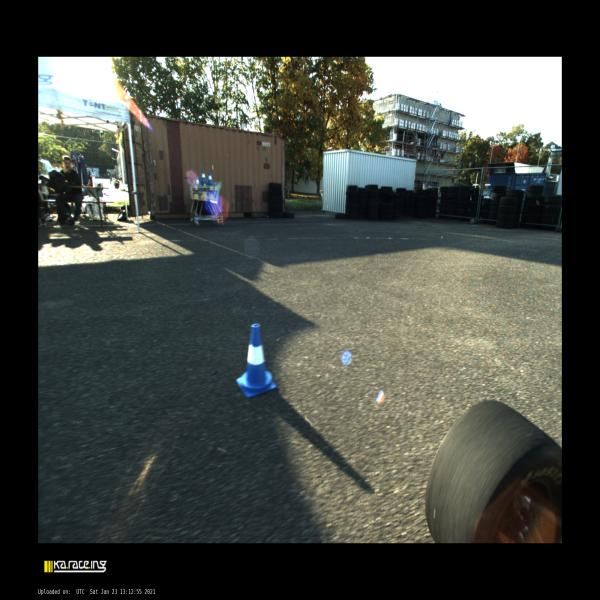blue_cone: (236, 323, 277, 398), (200, 169, 208, 184), (208, 171, 215, 185), (196, 176, 200, 187)
yellow_cone: (201, 183, 208, 199), (193, 186, 200, 200), (210, 186, 215, 200), (208, 186, 212, 200)
